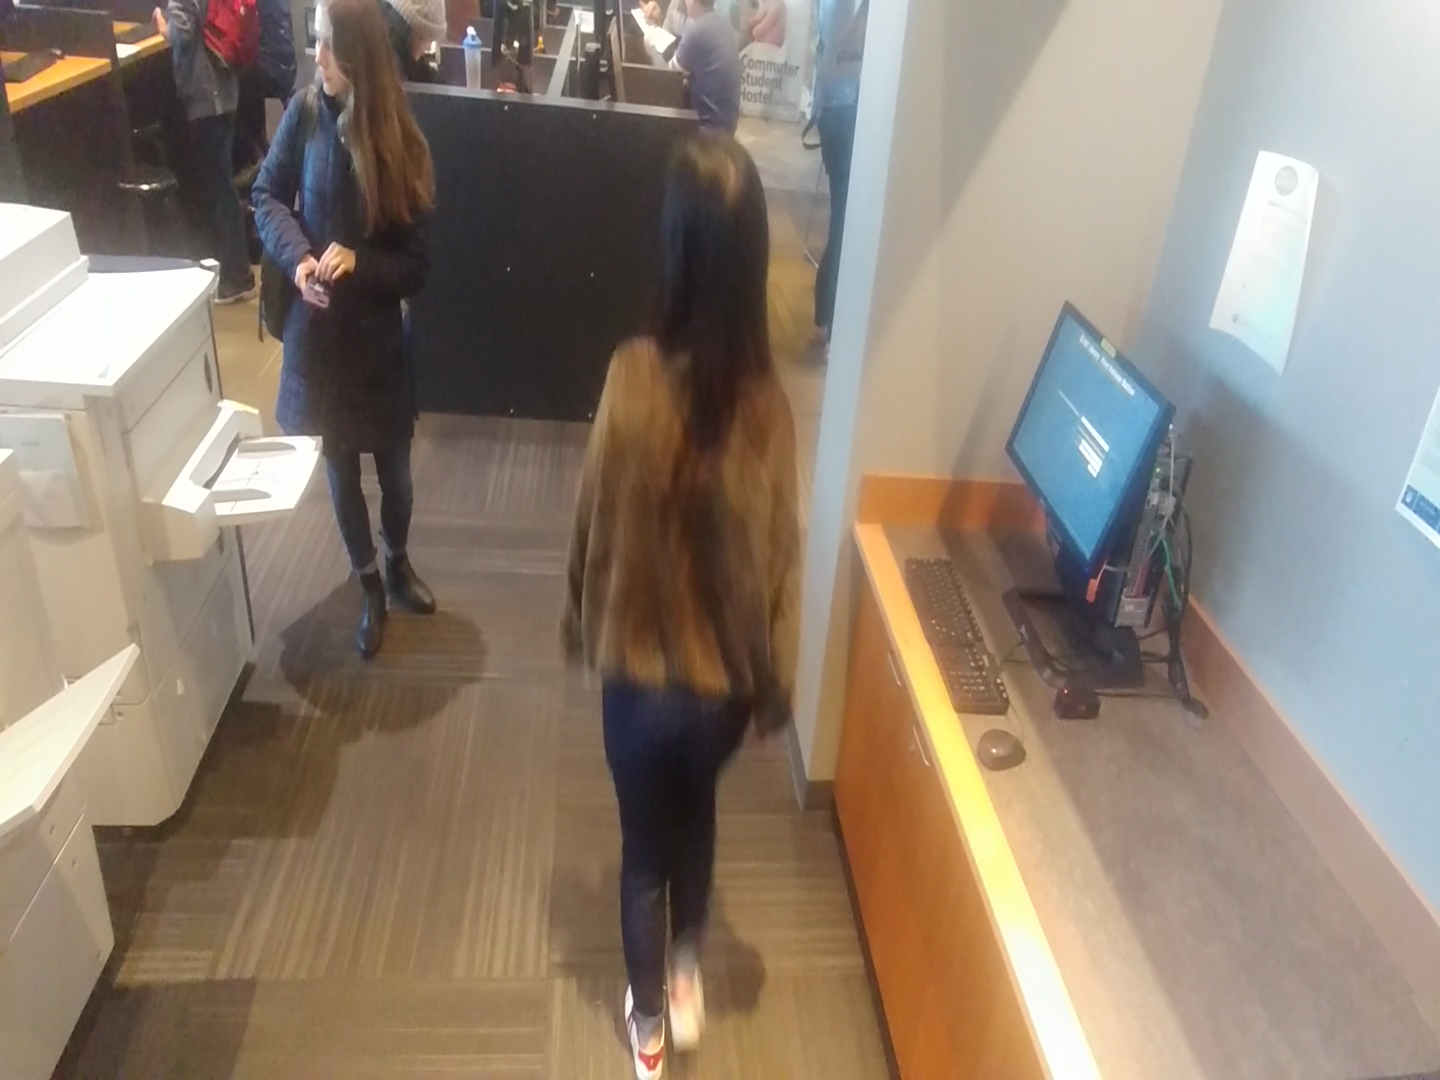face: (638, 113, 781, 406), (294, 0, 405, 116)
human: (554, 111, 811, 1080), (243, 0, 448, 686), (148, 0, 261, 311), (662, 0, 747, 140)
